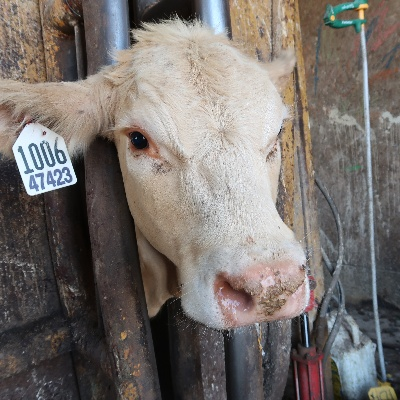fidget_spinner: (209, 242, 319, 322)
